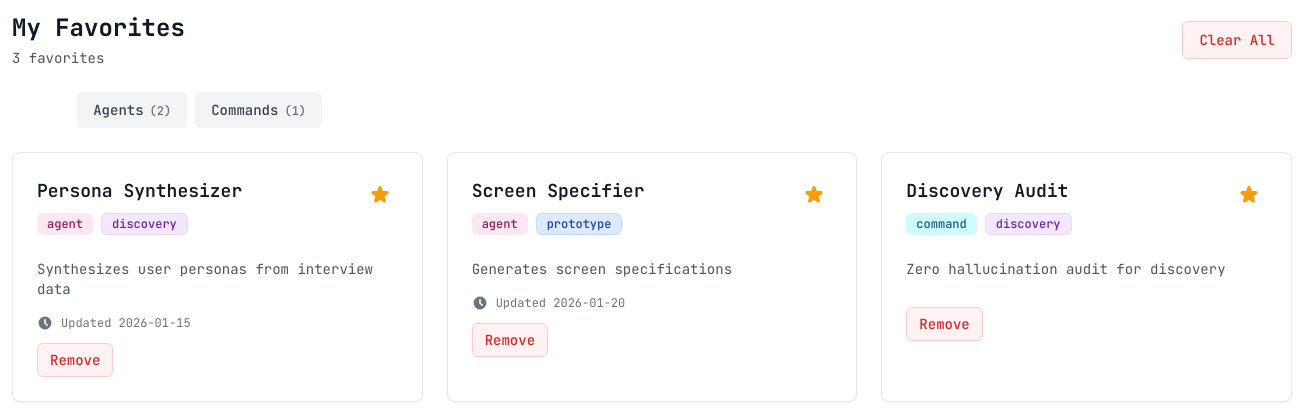
Scenario: FavoritesPanel › Type Filtering › shows all items when All filter is selected
Click the button "Commands(1)": x=259, y=110 [195, 92, 322, 128]
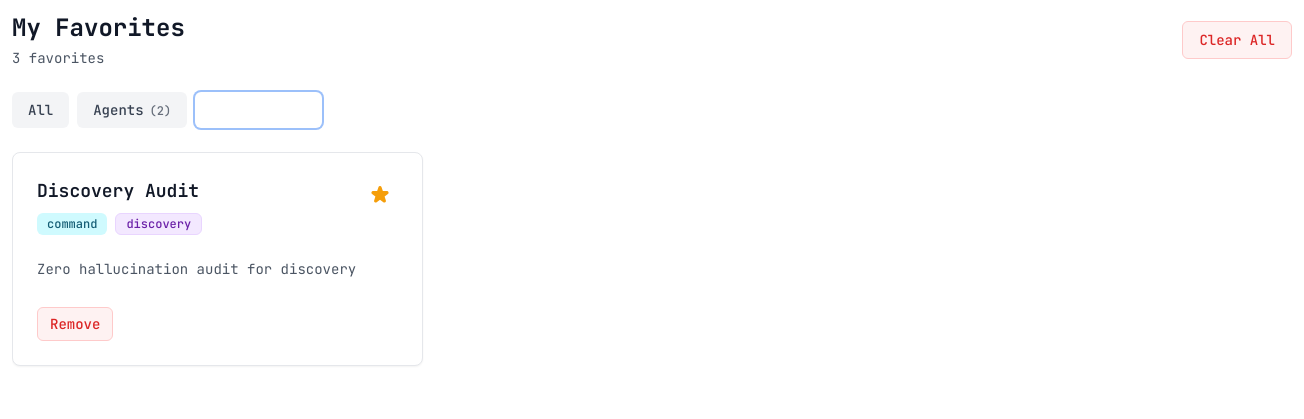
Click the button "All": x=41, y=110 [12, 92, 69, 128]
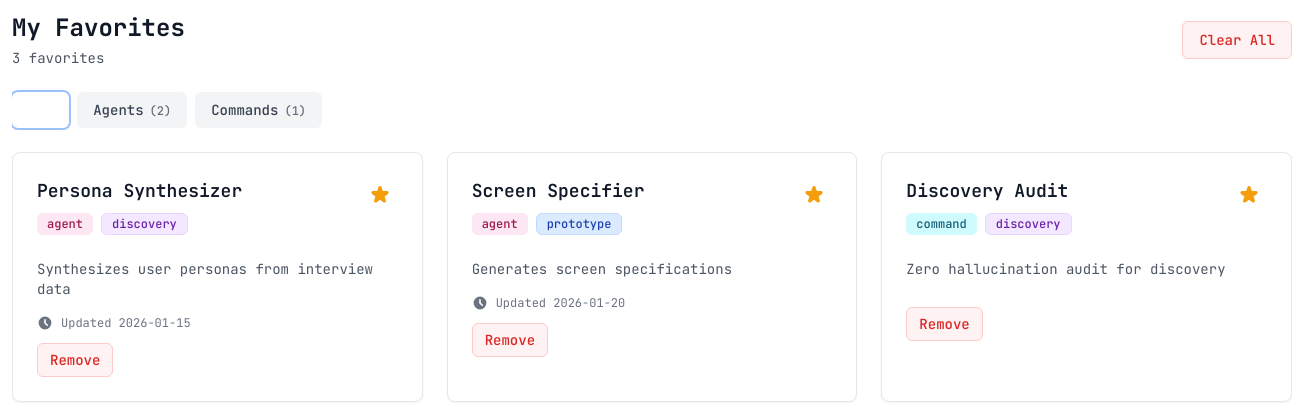
Expected: the heading "Discovery Audit" is shown, [906, 179, 1068, 202]
Now the heading "Persona Synthesizer" is shown, box [37, 179, 242, 202]
Now the heading "Screen Specifier" is shown, box [472, 179, 644, 202]
